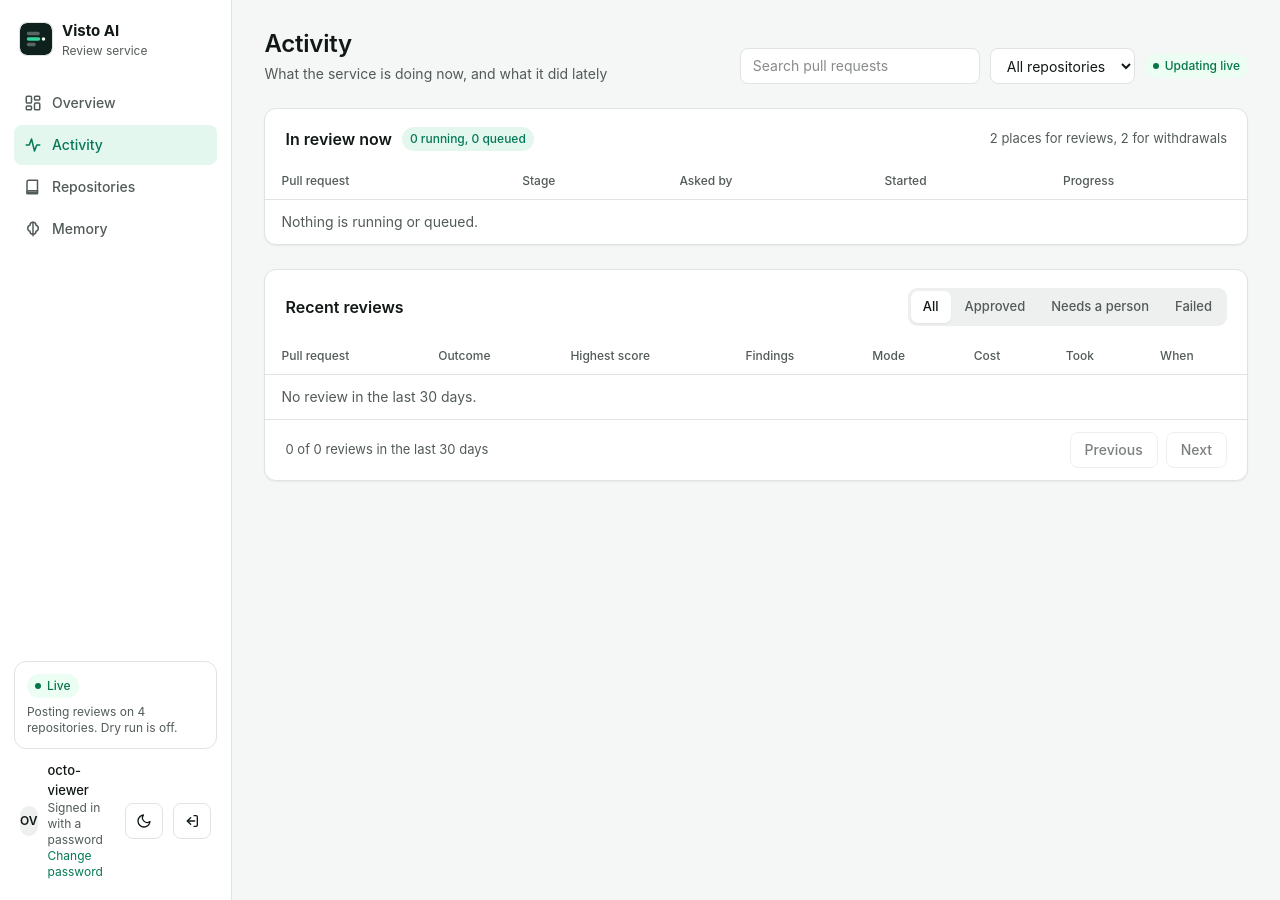
Scenario: a password account is said so and links Change password; a GitHub account does not
// It leads to the page in the page, and no entry is the current one there.
Click the link "Change password" at (75, 864), box [48,848,103,879]
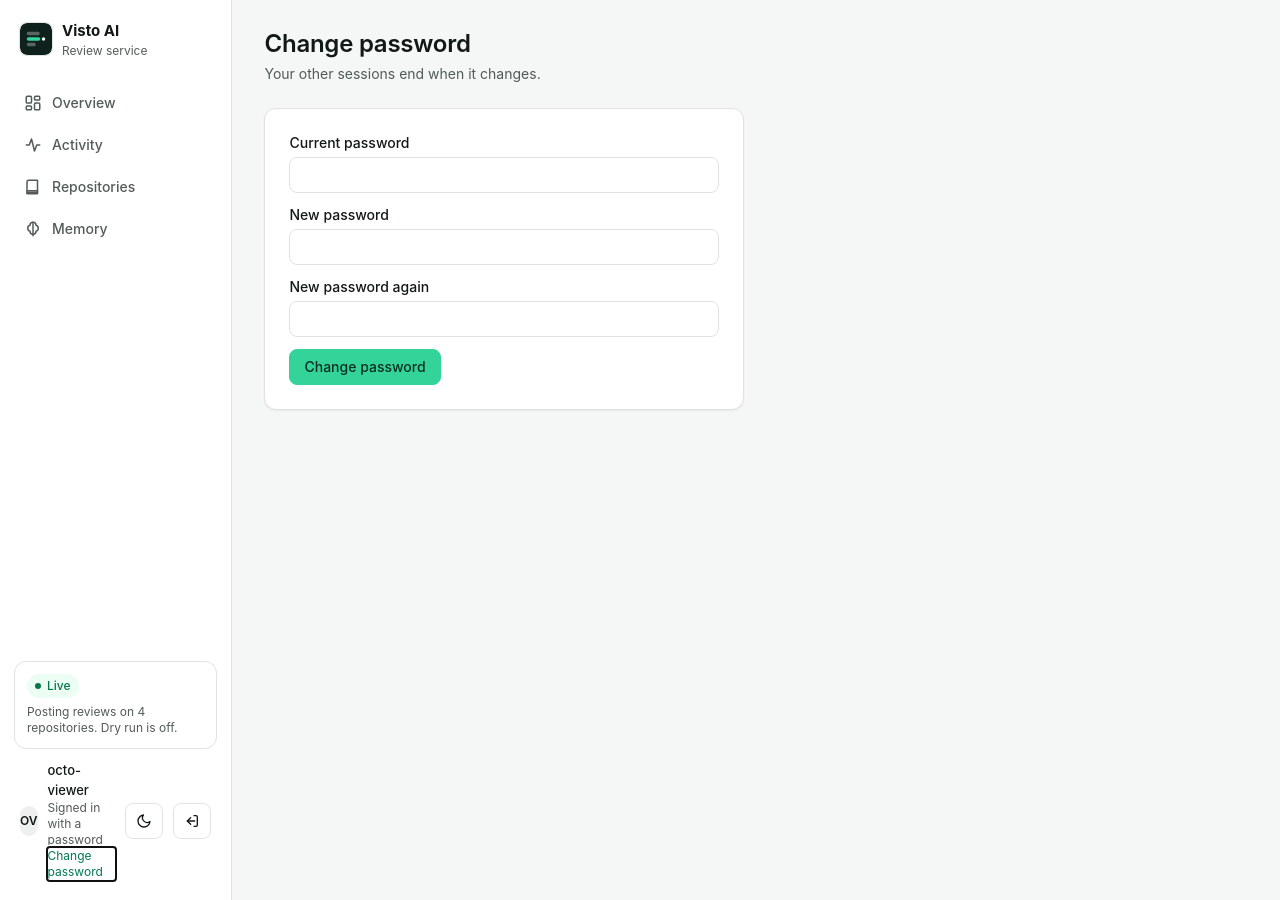
Check: the heading "Change password" is shown, box [264,29,471,58]
